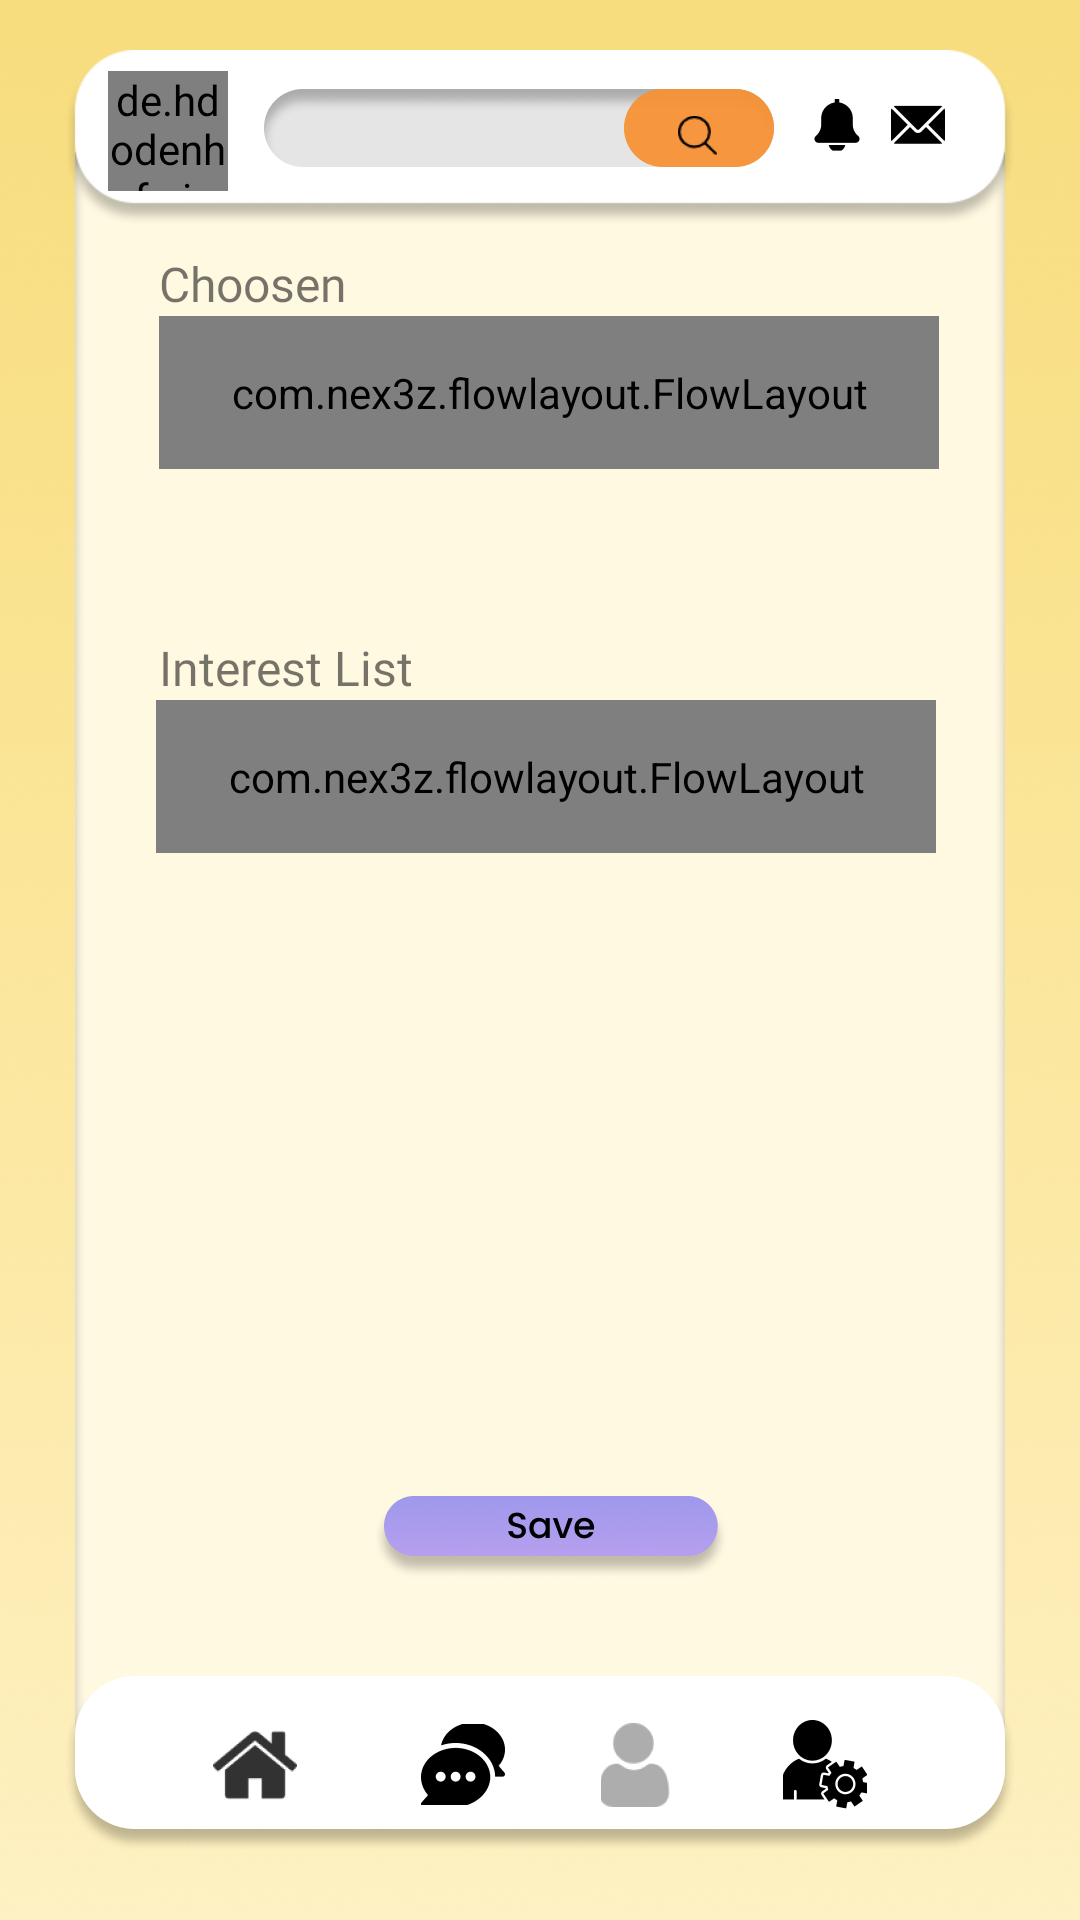

Named icons in this screenshot (1080x1920) and their centers, (x=x, y=y):
chaticon: (x=463, y=1764)
homeicon: (x=255, y=1765)
searchbutton: (x=699, y=128)
user: (x=635, y=1765)
userset: (x=825, y=1764)
